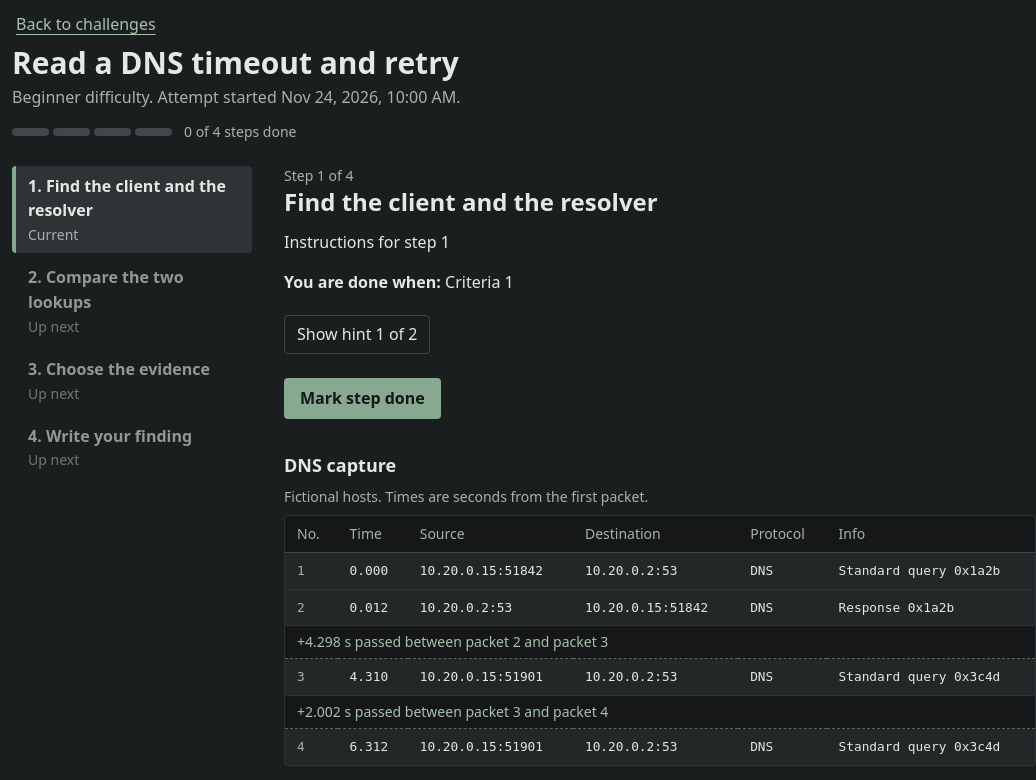
Scenario: Workspace: steps › shows the reason when Rust rejects a transition
Click the button "Mark step done" at (362, 398), box [284,378,441,419]
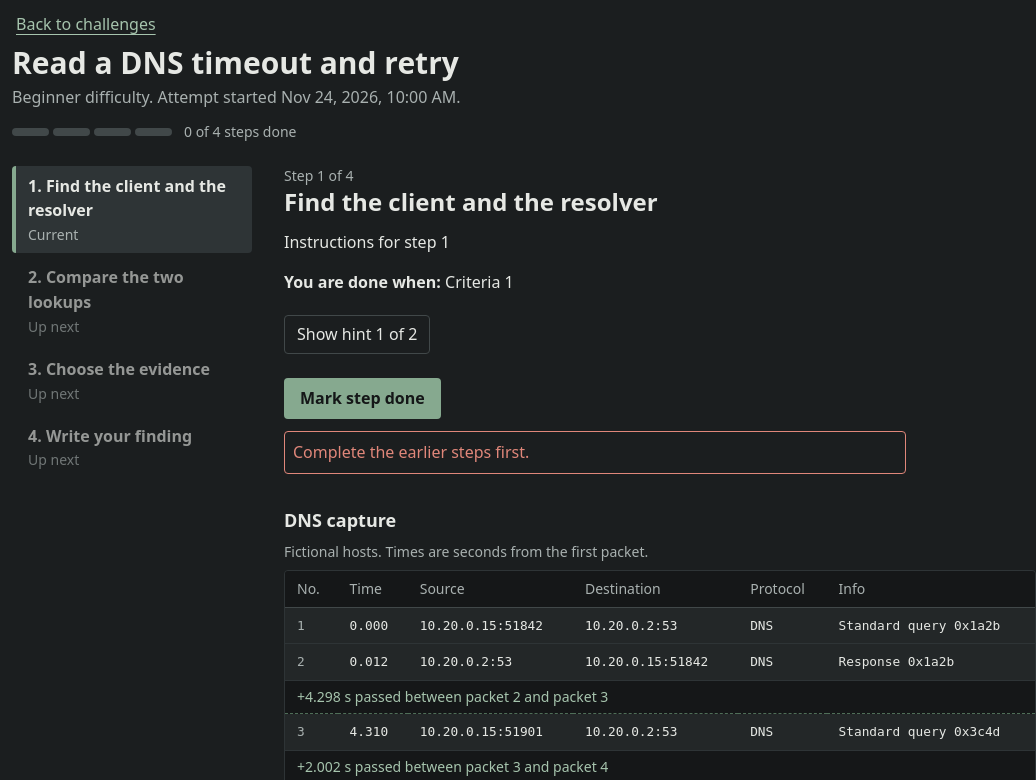
Expected: the heading "Find the client and the resolver" is shown, [284,185,658,218]
Result: the message reads "Complete the earlier steps first." at [293,441,529,463]
